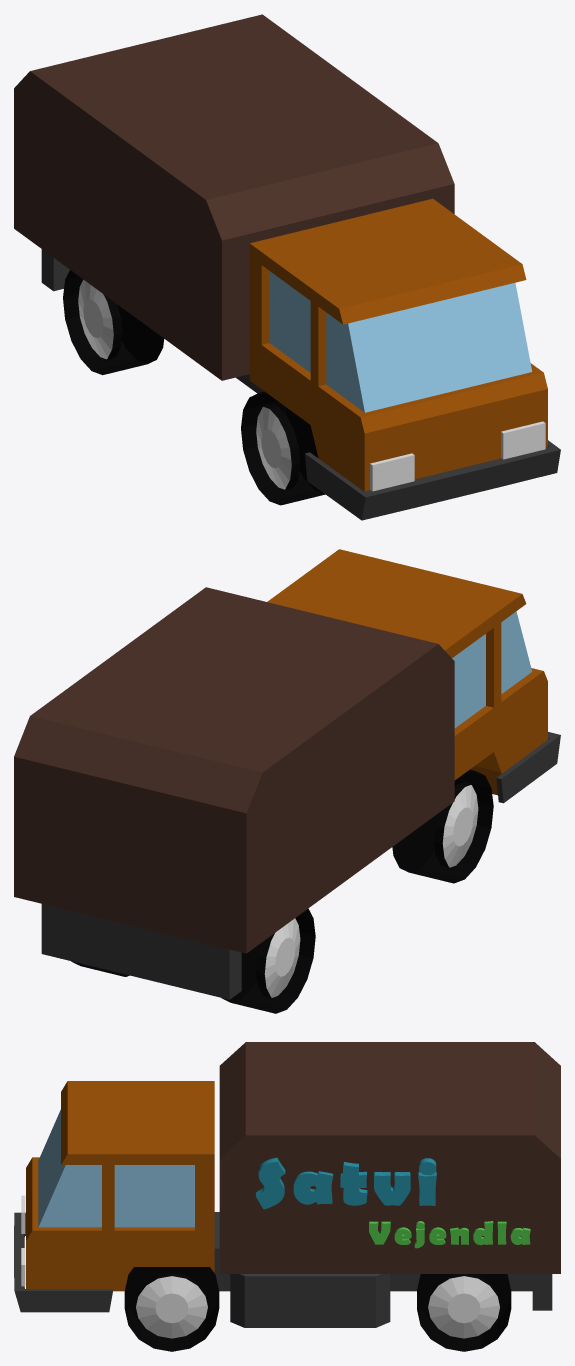
Rendered from factorylowpoly.gltf.
3 views of the same model, one above another, from view 1: azimuth 30°, elevation 25°; view 2: azimuth 150°, elevation 25°; view 3: azimuth 270°, elevation 25° (orthographic). The views are drawn at different scales.
Parts seen in each view (by area): view 1: Plane.003, Truck, Plane.004, Circle.002, Circle.001, Plane.005, Plane.002; view 2: Plane.003, Truck, Plane.002, Circle.002, Circle.001, Plane.004; view 3: Plane.003, Truck, Plane.006, Circle.002, Circle.001, Plane.004, Text.001, Plane.002, name2, name1, name4, name3 (+1 smaller).
Boxes of the visible parts, x1,y1,x2,y2 form: Plane.003: (14, 14, 454, 380); Truck: (249, 198, 547, 491); Plane.004: (305, 440, 560, 520); Circle.002: (241, 391, 325, 505); Circle.001: (63, 270, 164, 375); Plane.005: (370, 421, 545, 491); Plane.002: (41, 249, 264, 393); Plane.003: (14, 587, 454, 953); Truck: (267, 549, 547, 795); Plane.002: (41, 904, 241, 999); Circle.002: (392, 769, 493, 883); Circle.001: (71, 908, 315, 1013); Plane.004: (496, 732, 560, 803); Plane.003: (219, 1042, 560, 1273); Truck: (26, 1081, 214, 1291); Plane.006: (230, 1274, 390, 1327); Circle.002: (124, 1267, 219, 1351); Circle.001: (417, 1274, 511, 1351); Plane.004: (14, 1212, 112, 1312); Text.001: (369, 1221, 530, 1248); Plane.002: (214, 1212, 552, 1310); name2: (293, 1171, 333, 1204); name1: (255, 1157, 285, 1209); name4: (374, 1172, 410, 1205); name3: (340, 1162, 367, 1205).
Size of what is drawn, in the model's own units: 2.09 by 2.24 by 4.96.
